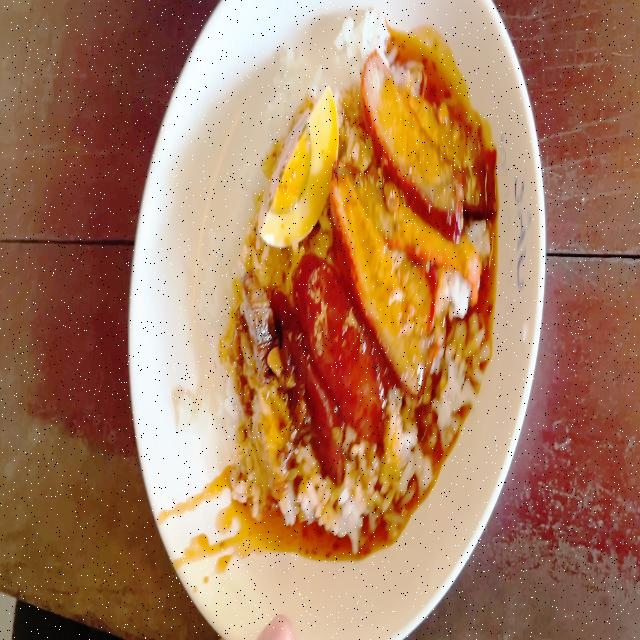boiled_egg: (263, 96, 335, 240)
chainese_sausage: (292, 260, 375, 481)
crispy_pork: (241, 277, 288, 478)
red_pork: (343, 64, 475, 358)
red_pork_and_crispy_pork: (209, 19, 493, 546)
rice: (273, 477, 395, 542), (379, 407, 443, 527)
